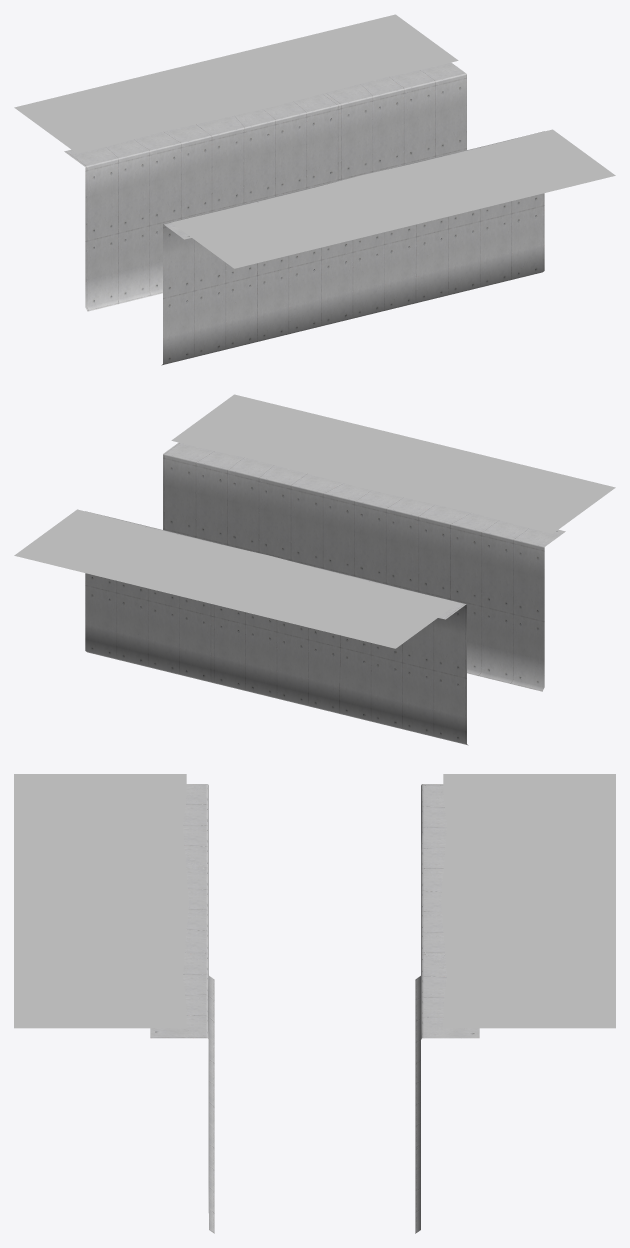
Rendered from michi.fbx.
The picture shows the model from 3 angles, top to bottom: view 1: azimuth 30°, elevation 25°; view 2: azimuth 150°, elevation 25°; view 3: azimuth 270°, elevation 25°; orthographic projection. The views are drawn at different scales.
Visible parts, largest first — view 1: polySurface12 (×2), polySurface13, polySurface5; view 2: polySurface12 (×2), polySurface5, polySurface13; view 3: polySurface12 (×2), polySurface5, polySurface13.
Part boxes in pixels (<box>): polySurface12 (×2): <box>14,14,615,268</box>; polySurface13: <box>64,62,466,311</box>; polySurface5: <box>161,131,544,365</box>; polySurface12 (×2): <box>14,394,615,648</box>; polySurface5: <box>163,442,565,691</box>; polySurface13: <box>85,511,468,745</box>; polySurface12 (×2): <box>14,774,615,1028</box>; polySurface5: <box>150,784,214,1233</box>; polySurface13: <box>415,784,479,1233</box>.
Bounding box in the file's own units: 900 × 339 × 900.
